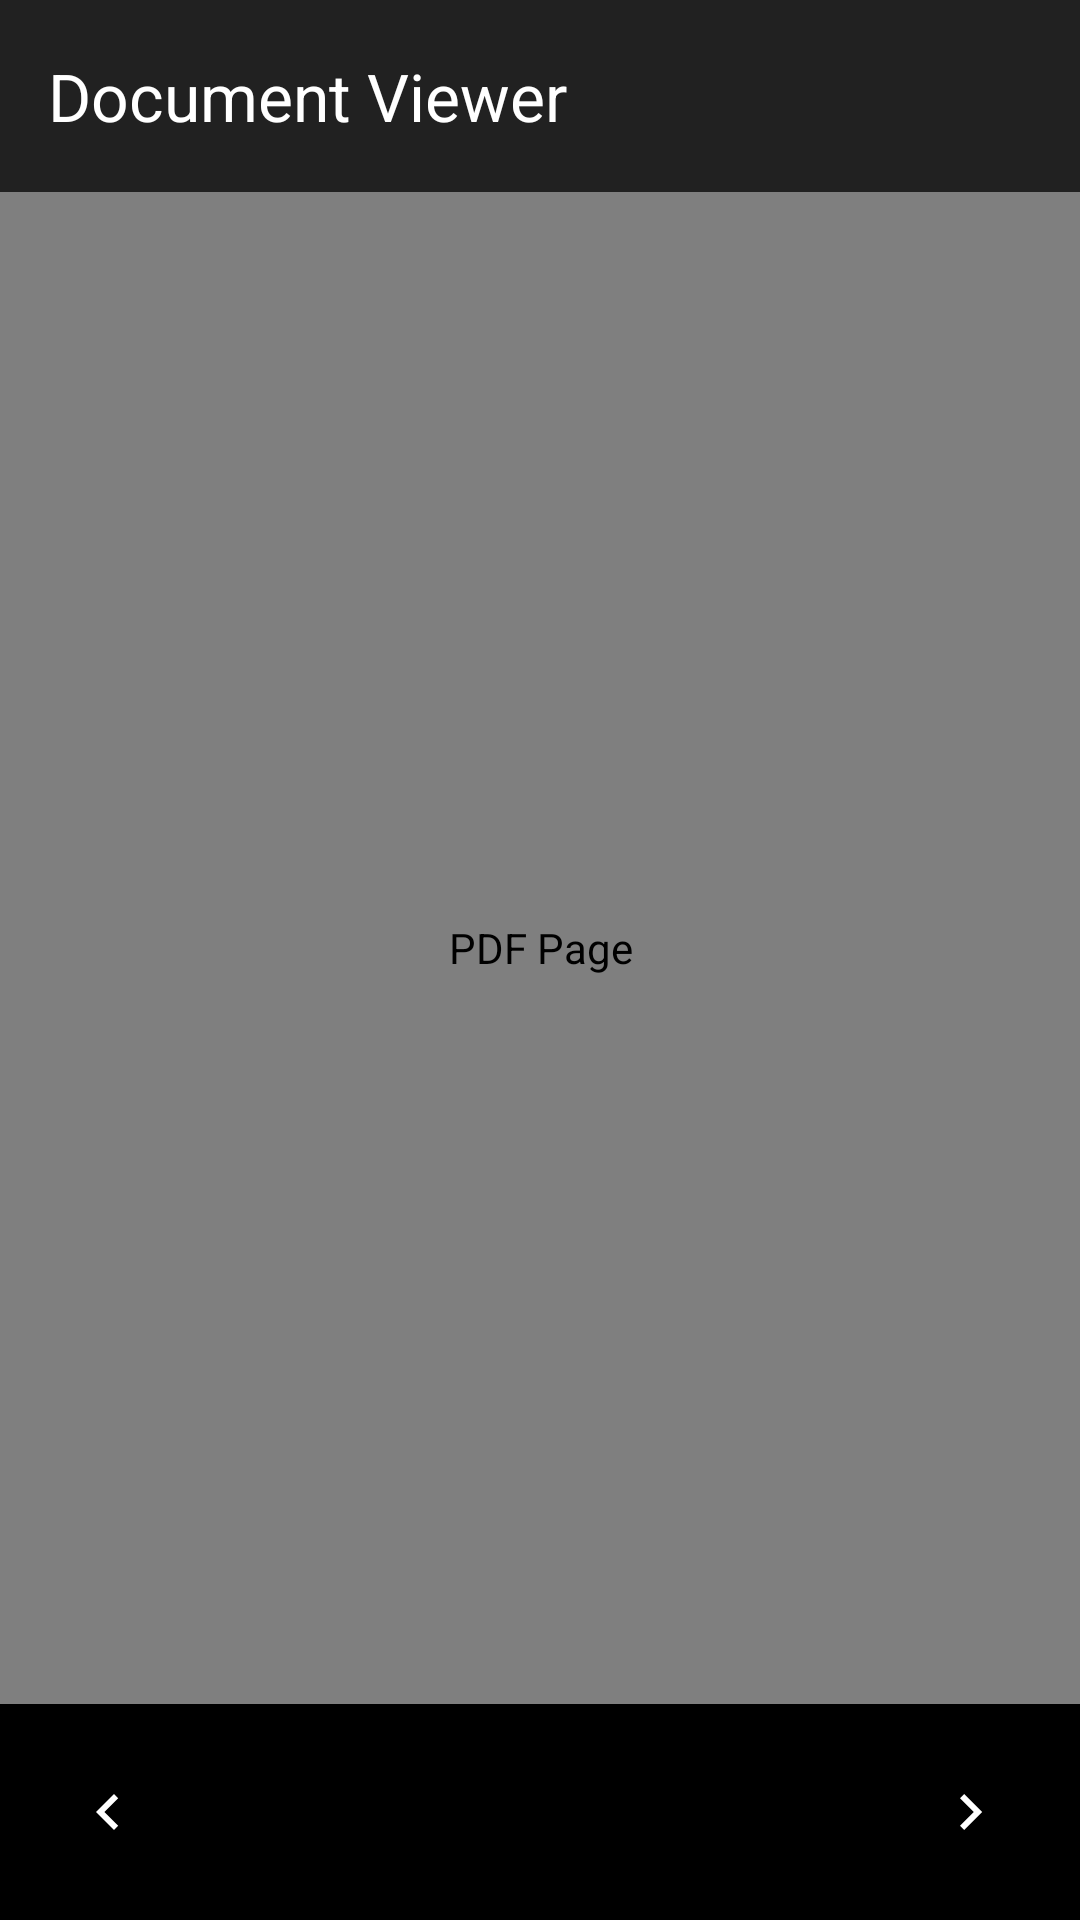

Named icons in this screenshot (1080x1920) and their bounding boxes, {"left": x1, "top": y1, "right": x2, "bottom": y2}:
Next Page: {"left": 960, "top": 1794, "right": 982, "bottom": 1830}
Previous Page: {"left": 96, "top": 1794, "right": 118, "bottom": 1830}
